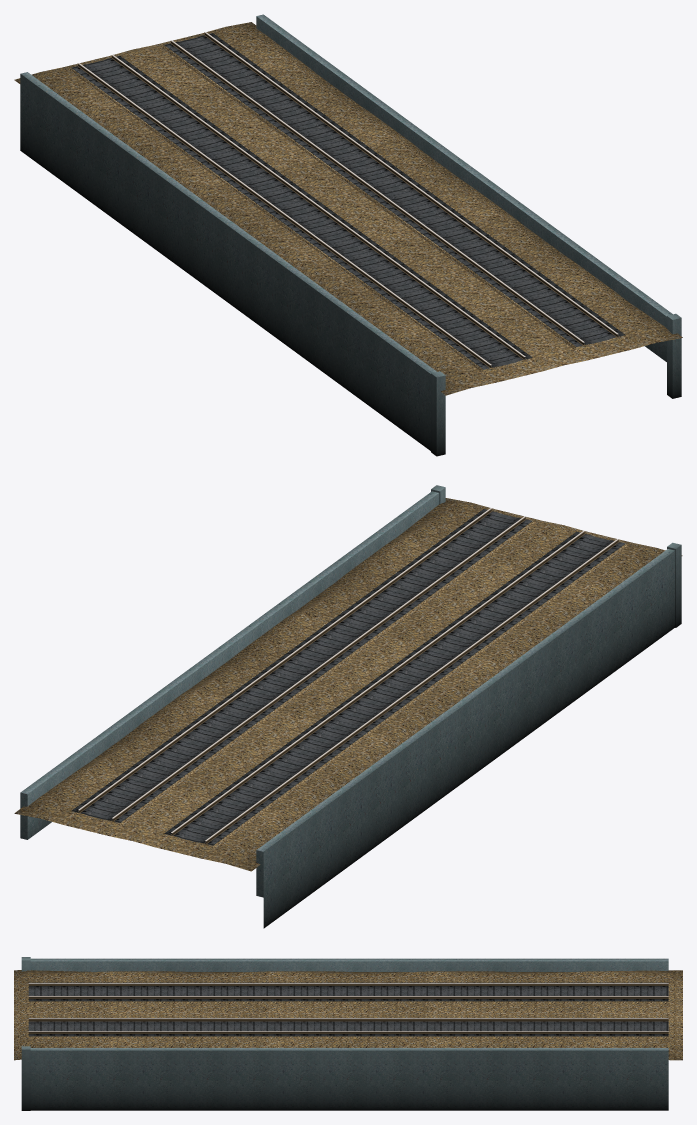
Rendered from HT_RAIL100_JARI.glb.
The picture shows the model from 3 angles, top to bottom: view 1: azimuth 30°, elevation 25°; view 2: azimuth 150°, elevation 25°; view 3: azimuth 270°, elevation 25°; orthographic projection. The views are drawn at different scales.
Parts seen in each view (by area): view 1: obj6, last; view 2: obj6, last; view 3: obj6, last.
Part boxes in pixels (<box>): obj6: <box>14,14,682,450</box>; last: <box>431,313,681,456</box>; obj6: <box>14,491,682,928</box>; last: <box>431,485,681,627</box>; obj6: <box>14,958,682,1110</box>; last: <box>21,957,30,1110</box>.
Size of the model in its own units: 34.26 by 10.56 by 105.
Materials: 6 (5 with a texture image).
